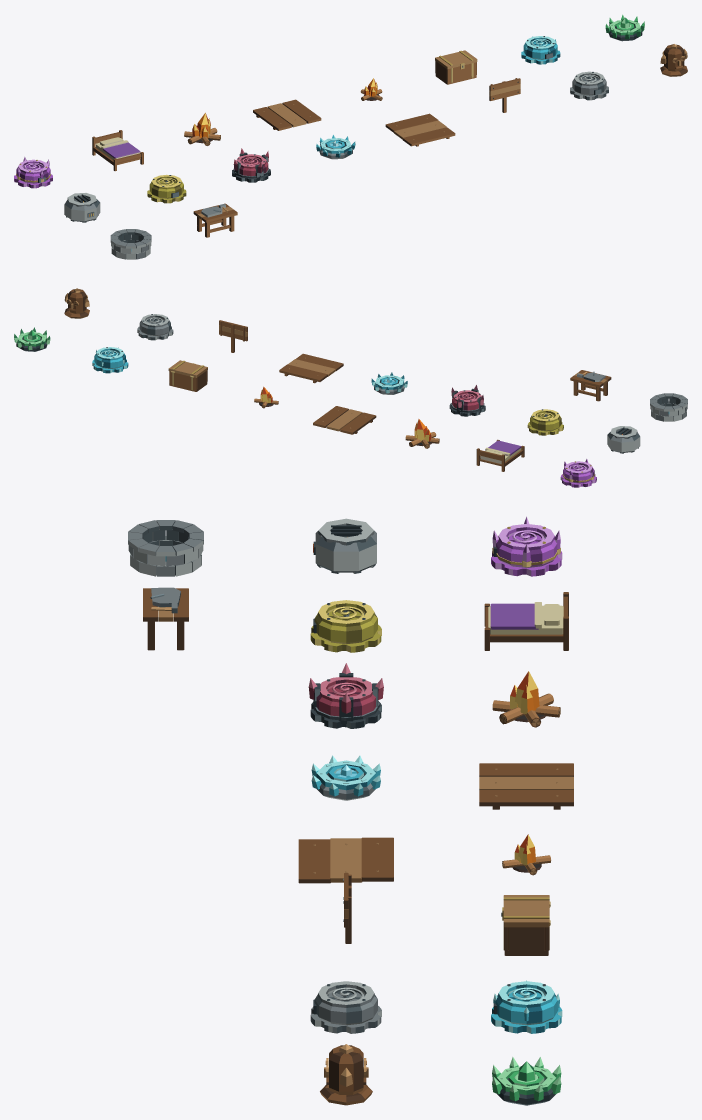
Rendered from estruturas.fbx.
3 renders of one model, top to bottom at view 1: azimuth 30°, elevation 25°; view 2: azimuth 150°, elevation 25°; view 3: azimuth 270°, elevation 25°, orthographic. The views are drawn at different scales.
Visible parts, largest first — view 1: roof_body, bridge_body, bed_body, well_body, workbench_body, furnace_body, reidite_extractor_body, amethyst_extractor_body, diamond_extractor_body, gold_extractor_body, stone_extractor_body, totem_body (+5 smaller); view 2: roof_body, bridge_body, well_body, bed_body, workbench_body, furnace_body, reidite_extractor_body, amethyst_extractor_body, diamond_extractor_body, gold_extractor_body, stone_extractor_body, totem_body (+5 smaller); view 3: roof_body, bridge_body, well_body, bed_body, reidite_extractor_body, furnace_body, amethyst_extractor_body, diamond_extractor_body, gold_extractor_body, stone_extractor_body, totem_body, resurrection_stone_body (+5 smaller).
Part boxes in pixels (x1,y1,x2,y2): roof_body: (385,113,455,146); bridge_body: (253,99,321,130); bed_body: (92,130,143,171); well_body: (110,229,151,259); workbench_body: (193,203,237,237); furnace_body: (64,193,100,222); reidite_extractor_body: (232,148,270,182); amethyst_extractor_body: (14,157,52,188); diamond_extractor_body: (521,36,560,64); gold_extractor_body: (147,174,186,203); stone_extractor_body: (570,71,608,100); totem_body: (660,44,687,76); roof_body: (279,353,343,383); bridge_body: (313,406,376,434); well_body: (650,393,687,421); bed_body: (476,439,524,471); workbench_body: (570,370,611,401); furnace_body: (607,426,640,453); reidite_extractor_body: (449,385,485,416); amethyst_extractor_body: (560,459,596,487); diamond_extractor_body: (92,347,128,373); gold_extractor_body: (527,409,563,435); stone_extractor_body: (137,314,173,340); totem_body: (64,288,89,318); roof_body: (298,837,393,883); bridge_body: (479,763,573,809); well_body: (128,520,203,576); bed_body: (484,592,568,650); reidite_extractor_body: (308,663,383,728); furnace_body: (313,518,376,573); amethyst_extractor_body: (491,516,562,576); diamond_extractor_body: (491,980,562,1033); gold_extractor_body: (310,600,381,652); stone_extractor_body: (310,981,381,1033); totem_body: (320,1044,372,1105); resurrection_stone_body: (311,755,380,800).
Bounding box in the file's own units: 59.23 × 2.76 × 19.79.
1 material, 1 textured.
